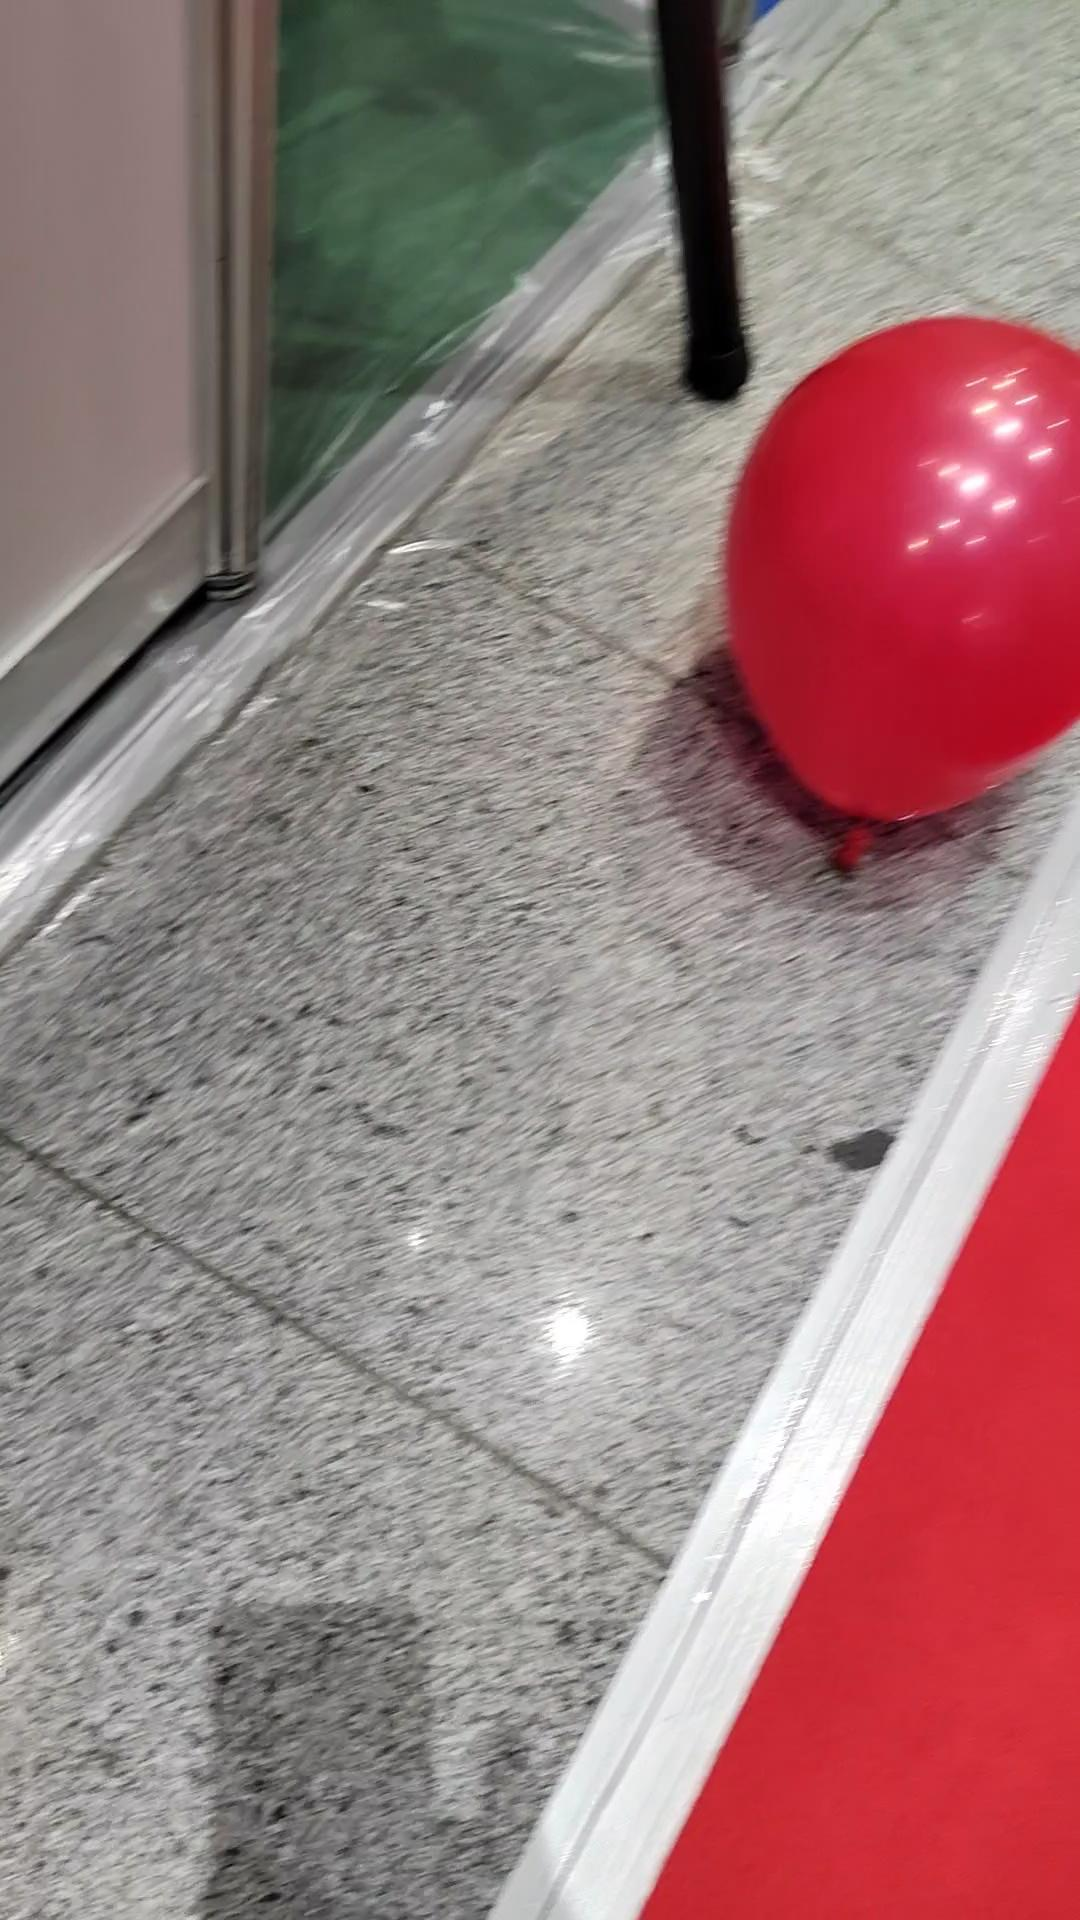red: (713, 318, 1080, 818)
